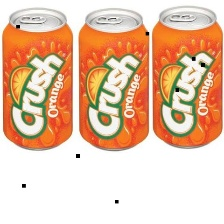can: (75, 5, 152, 159), (149, 0, 224, 155), (1, 3, 73, 153)
